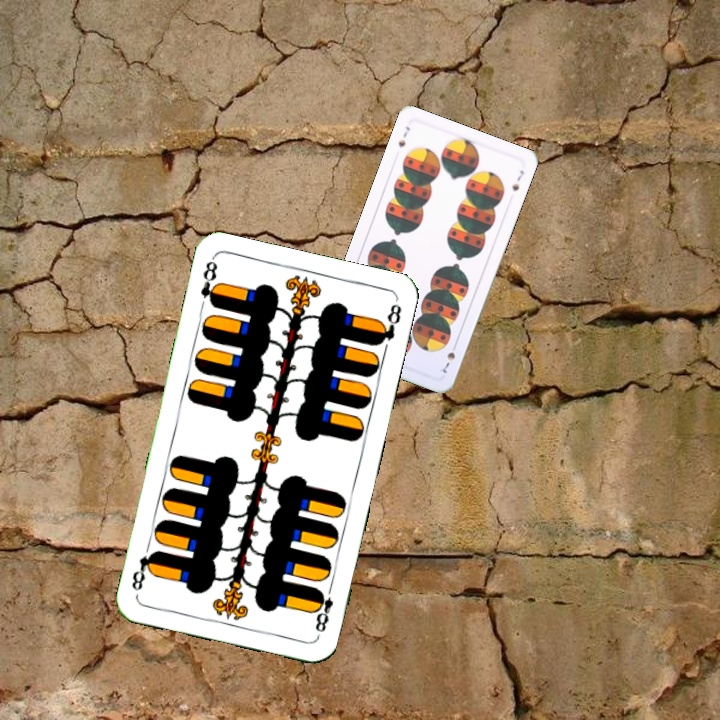E8: (310, 580, 336, 635), (196, 255, 222, 310)
S7: (438, 339, 460, 375), (394, 122, 412, 150)
